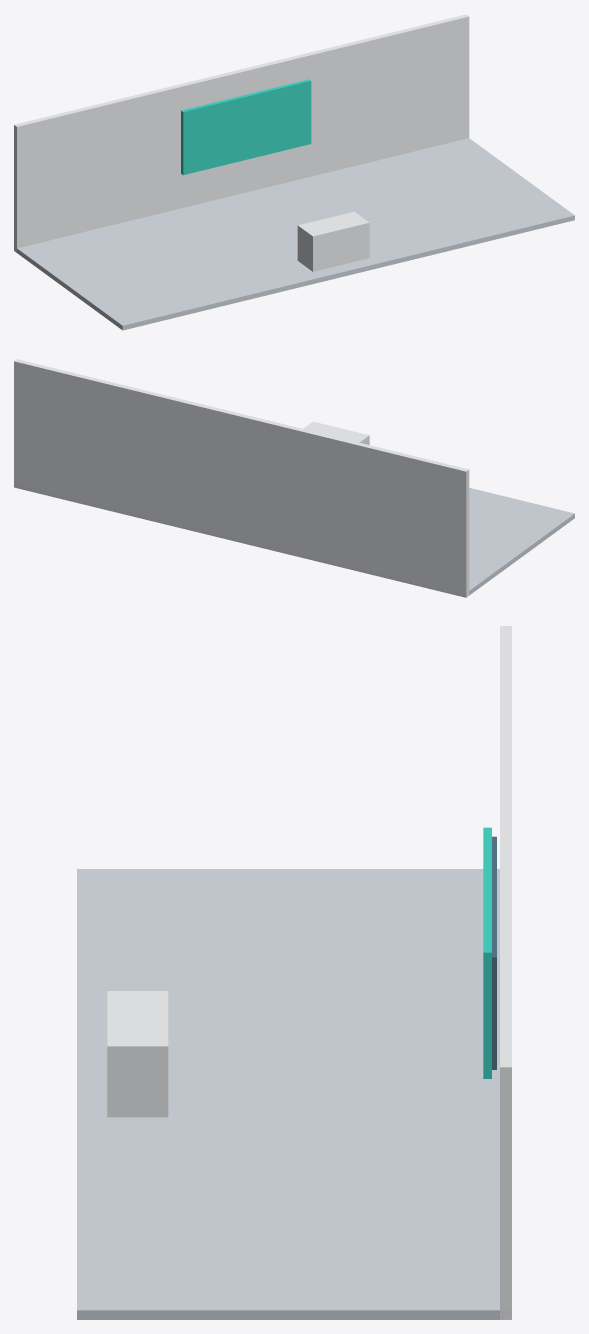
3 views of the same model, one above another, from view 1: azimuth 30°, elevation 25°; view 2: azimuth 150°, elevation 25°; view 3: azimuth 270°, elevation 25° (orthographic). The views are drawn at different scales.
Parts seen in each view (by area): view 1: Exhibition Booth Concept; view 2: Exhibition Booth Concept; view 3: Exhibition Booth Concept.
Part boxes in pixels (bbox=[...]): Exhibition Booth Concept: bbox=[14, 14, 574, 330]; Exhibition Booth Concept: bbox=[14, 359, 574, 597]; Exhibition Booth Concept: bbox=[77, 626, 511, 1319].
Size of the model in its own units: 12 by 3.2 by 5.
